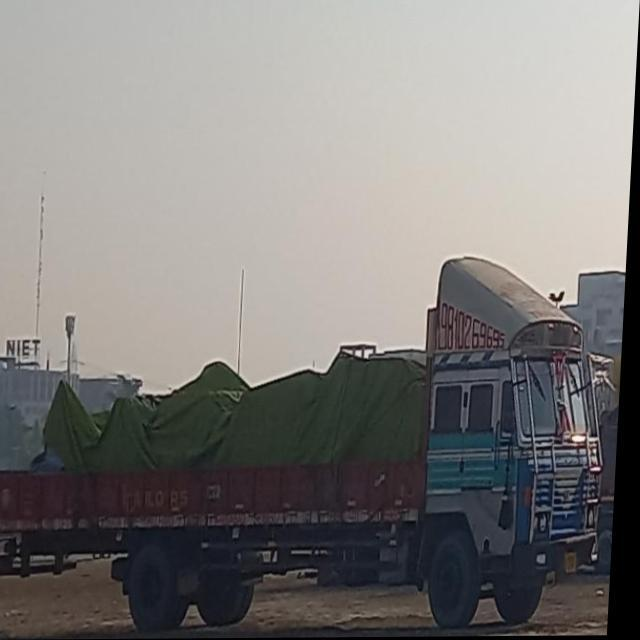covered: (0, 351, 567, 627)
